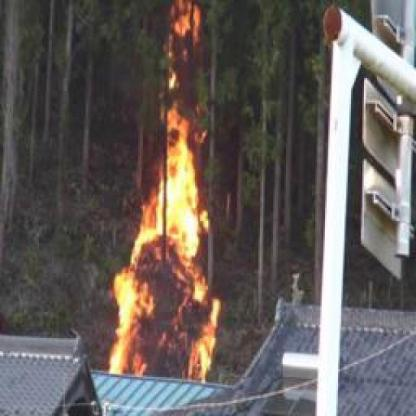fire: (111, 93, 229, 381), (162, 4, 207, 59)
